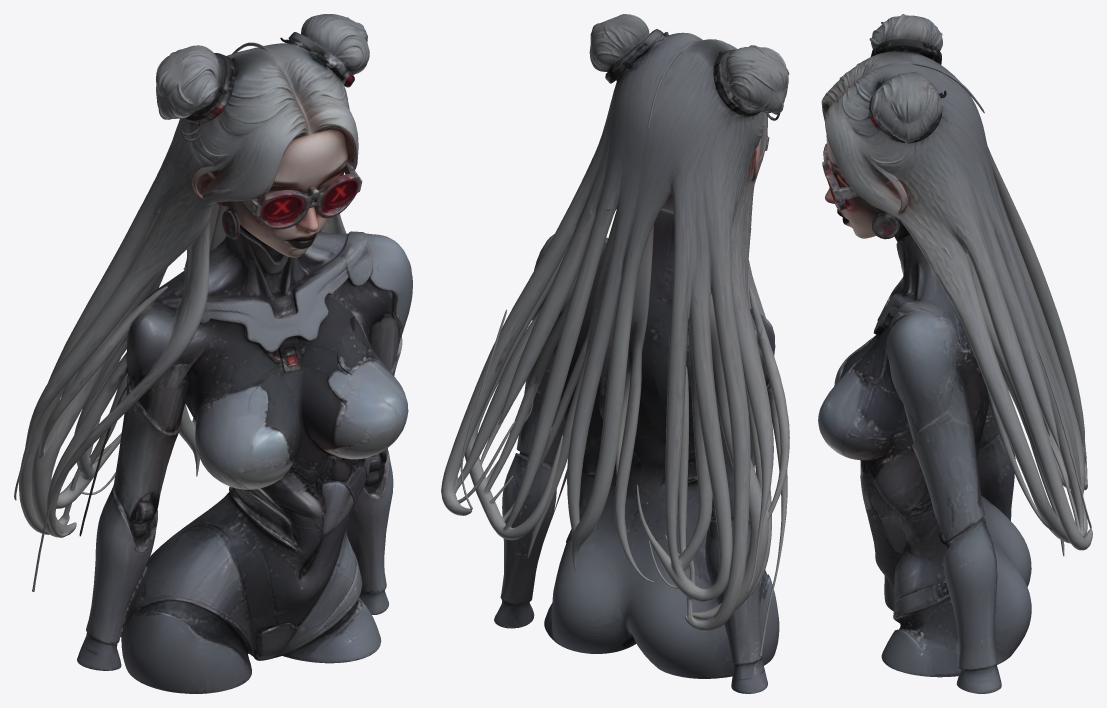
The picture shows the model from 3 angles, left to right: view 1: azimuth 30°, elevation 25°; view 2: azimuth 150°, elevation 25°; view 3: azimuth 270°, elevation 25°; orthographic projection. The views are drawn at different scales.
Visible parts, largest first — view 1: material; view 2: material; view 3: material.
Boxes of the visible parts, x1=… form: material: x1=14, y1=14, x2=412, y2=693; material: x1=441, y1=14, x2=789, y2=693; material: x1=818, y1=14, x2=1092, y2=693.
Size of the model in its own units: 0.5811 by 1.06 by 0.4597.
Materials: 1 (1 with a texture image).
